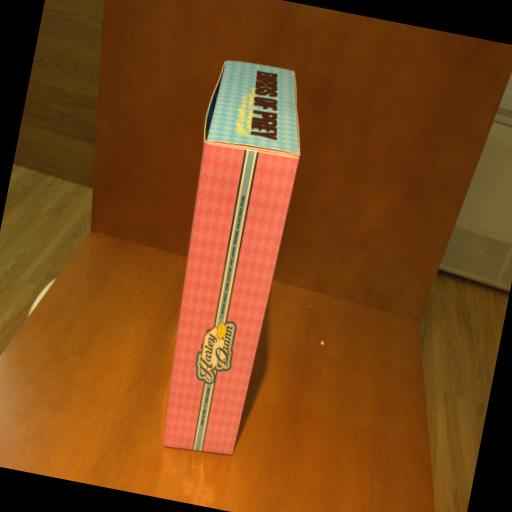Harley: (144, 56, 317, 458)
